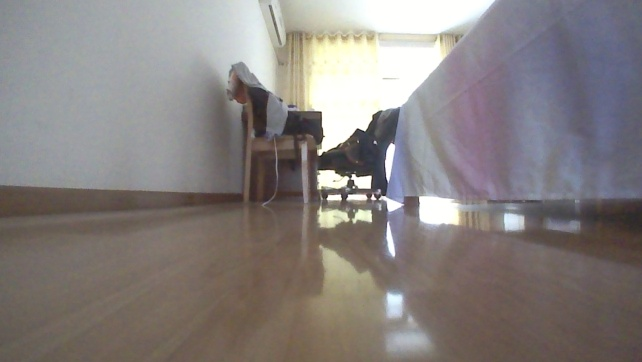bed1: (380, 0, 641, 212)
wire: (262, 135, 280, 206)
